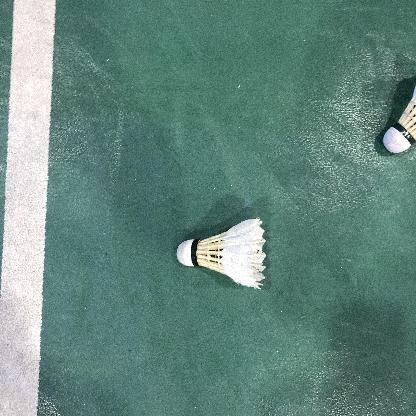ball_single: (177, 219, 266, 290), (383, 84, 416, 153)
